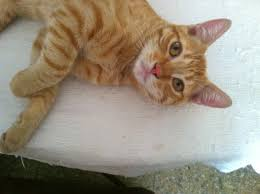Gato: (81, 6, 239, 113)
